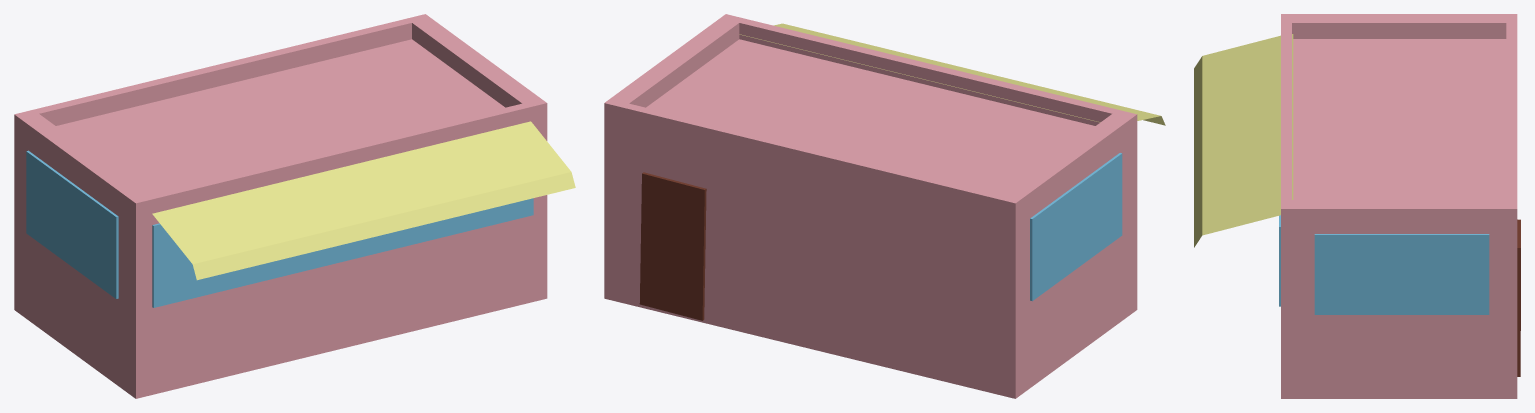
File: shop.fbx
The picture shows the model from 3 angles, left to right: view 1: azimuth 30°, elevation 25°; view 2: azimuth 150°, elevation 25°; view 3: azimuth 270°, elevation 25°; orthographic projection. The views are drawn at different scales.
Visible parts, largest first — view 1: Cube, Plane, Cube.002; view 2: Cube, Cube.004, Cube.002, Plane; view 3: Cube, Plane, Cube.002, Cube.004.
Boxes of the visible parts, x1,y1,x2,y2 form: Cube: (14,14,547,398); Plane: (152,121,575,280); Cube.002: (26,150,533,307); Cube: (604,14,1137,398); Cube.004: (639,172,706,320); Cube.002: (1030,153,1122,301); Plane: (739,23,1165,125); Cube: (1281,14,1517,398); Plane: (1194,34,1293,247); Cube.002: (1279,215,1489,314); Cube.004: (1517,219,1520,376).
Size of the model in its own units: 395 by 177 by 277.
